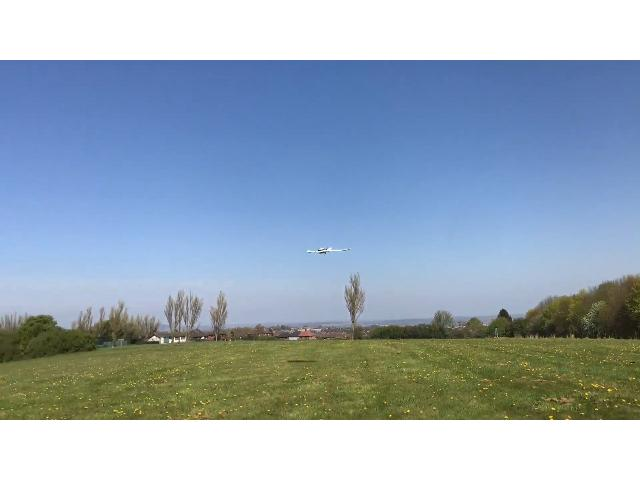Anti-Drone: (296, 238, 350, 260)
